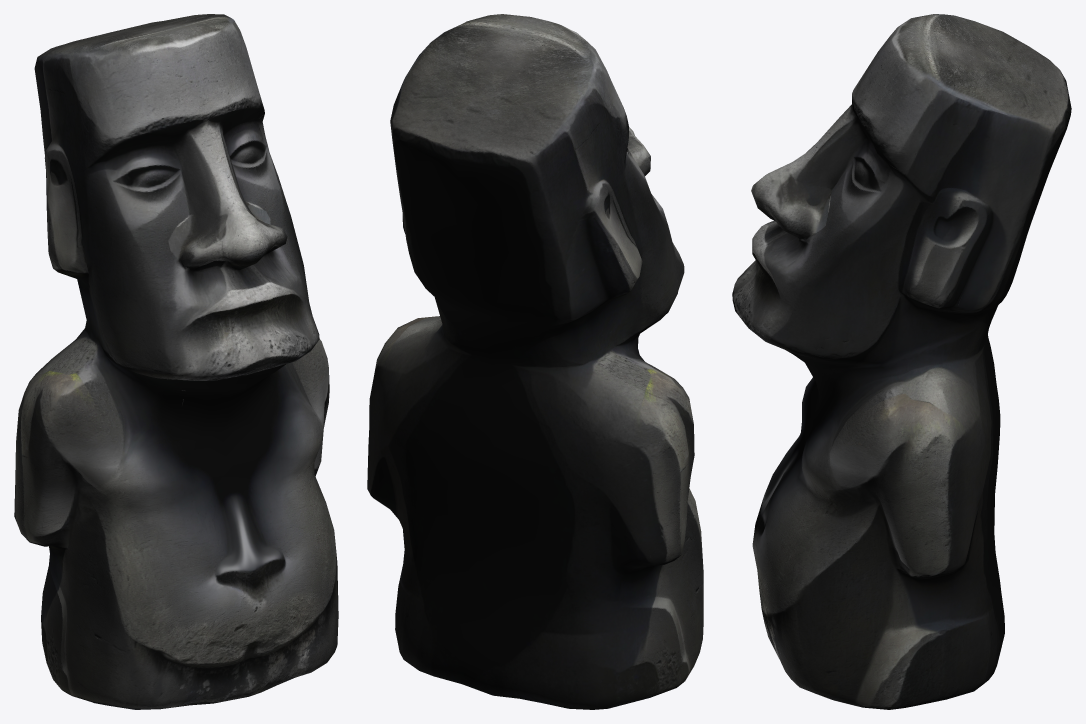
File: moai.glb
The picture shows the model from 3 angles, left to right: view 1: azimuth 30°, elevation 25°; view 2: azimuth 150°, elevation 25°; view 3: azimuth 270°, elevation 25°; orthographic projection. The views are drawn at different scales.
Bounding box in the file's own units: 0.9921 × 2.01 × 0.9921.
1 material, 1 textured.
